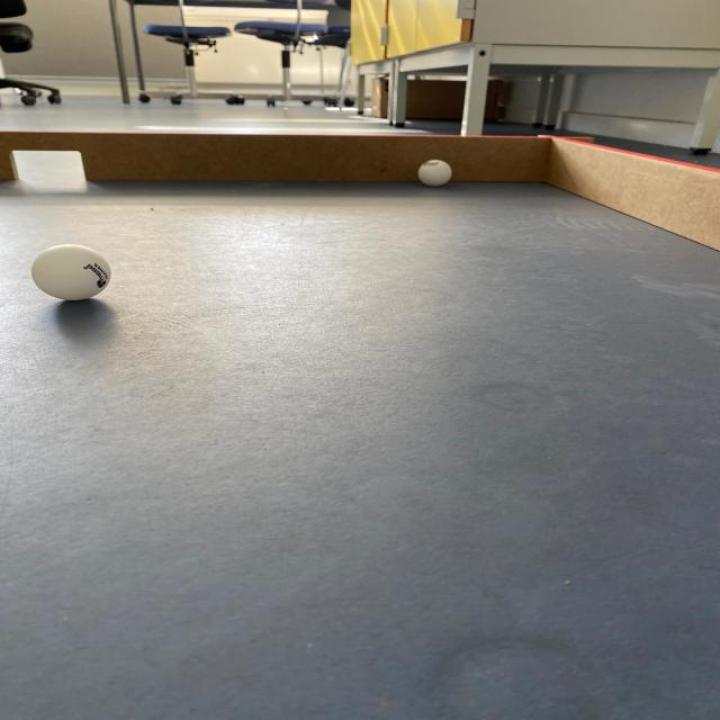white: (24, 239, 121, 311), (408, 155, 462, 193)
